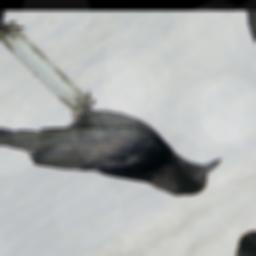Crow: (0, 33, 235, 256)
